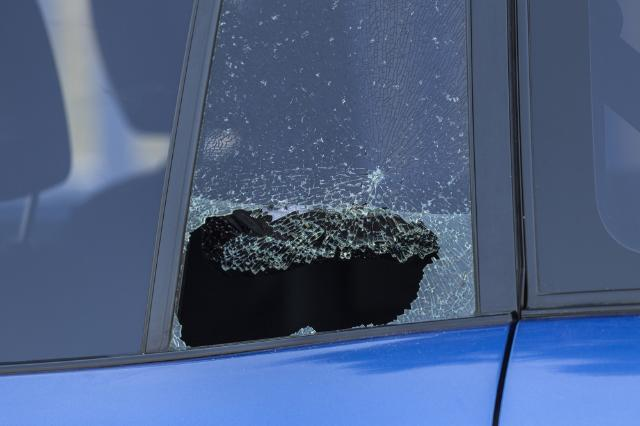glass shatter: (168, 0, 477, 353)
